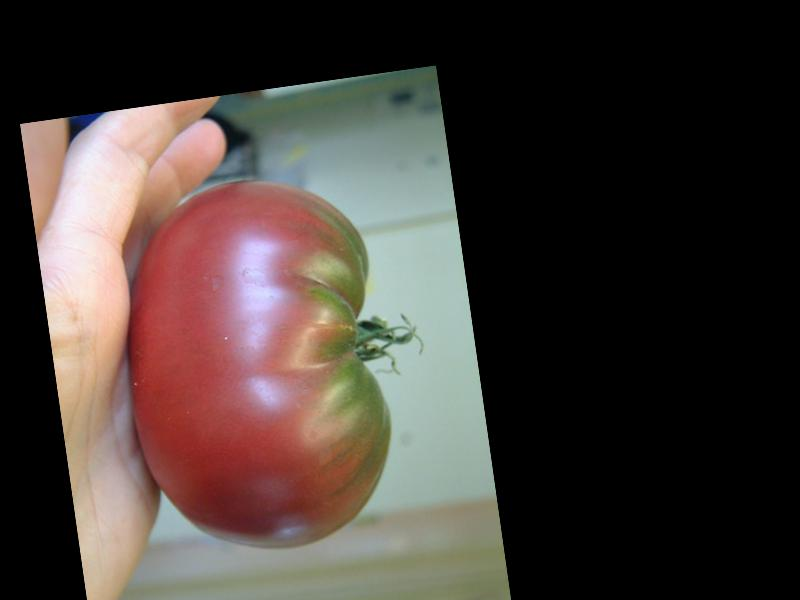Tomato: (103, 165, 407, 566)
